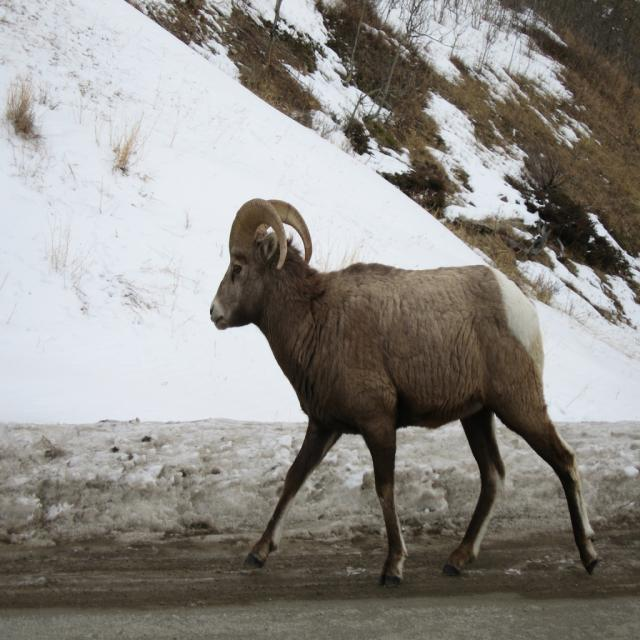Sheep: (210, 198, 604, 587)
